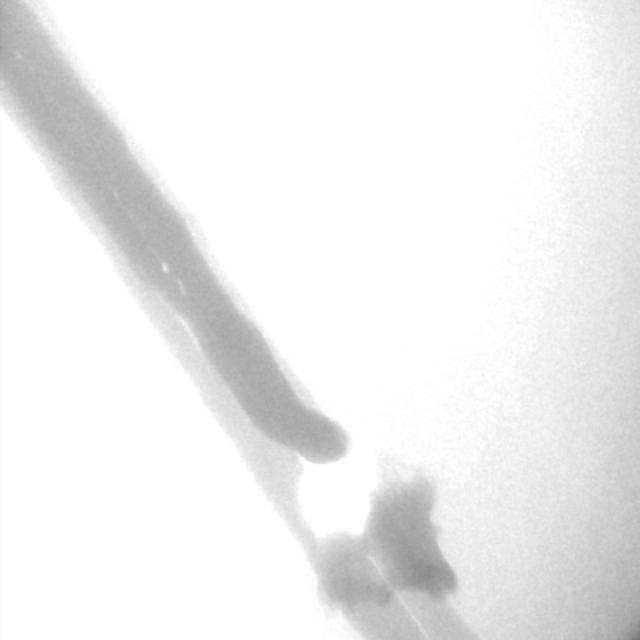air hole: (160, 261, 169, 275), (14, 51, 23, 60)
broken arc: (177, 314, 429, 636)
